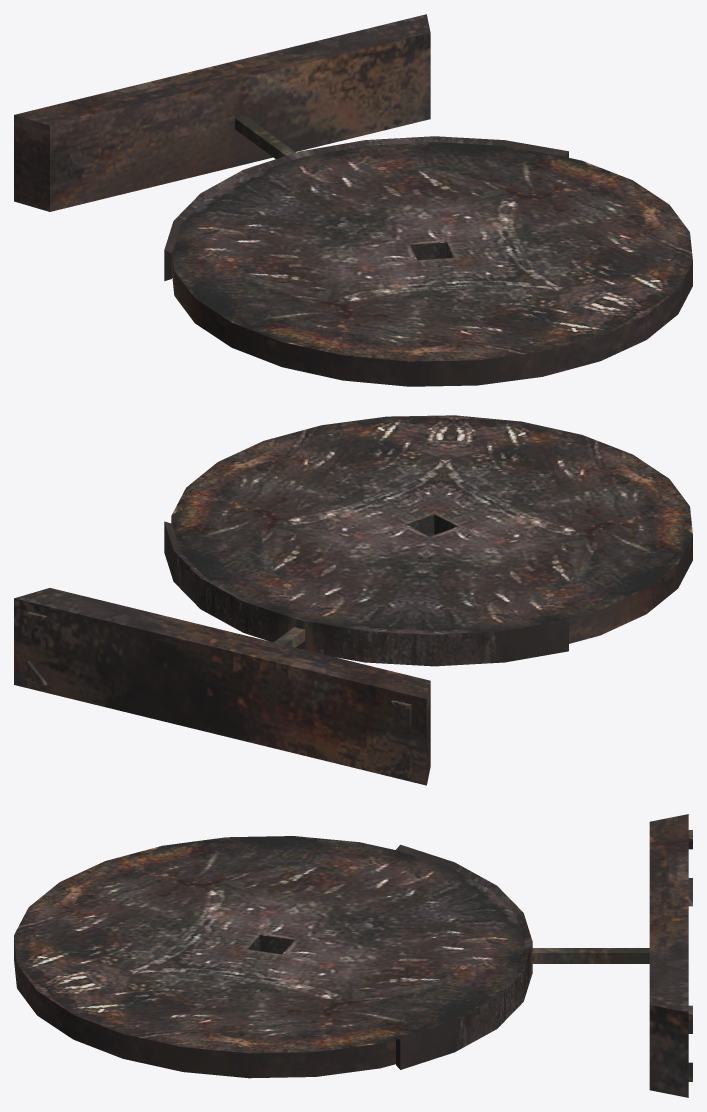
Rendered from p6_zm_nuked_table_art_LOD0.obj.
3 views of the same model, one above another, from view 1: azimuth 30°, elevation 25°; view 2: azimuth 150°, elevation 25°; view 3: azimuth 270°, elevation 25° (orthographic).
Parts seen in each view (by area): view 1: mtl_p6_zm_nuked_table_art; view 2: mtl_p6_zm_nuked_table_art; view 3: mtl_p6_zm_nuked_table_art.
Part boxes in pixels (left/top/right/bottom): mtl_p6_zm_nuked_table_art: left=14, top=14, right=692, bottom=386; mtl_p6_zm_nuked_table_art: left=14, top=415, right=692, bottom=785; mtl_p6_zm_nuked_table_art: left=14, top=814, right=692, bottom=1097.
Bounding box in the file's own units: 50.11 × 9.17 × 66.15.
